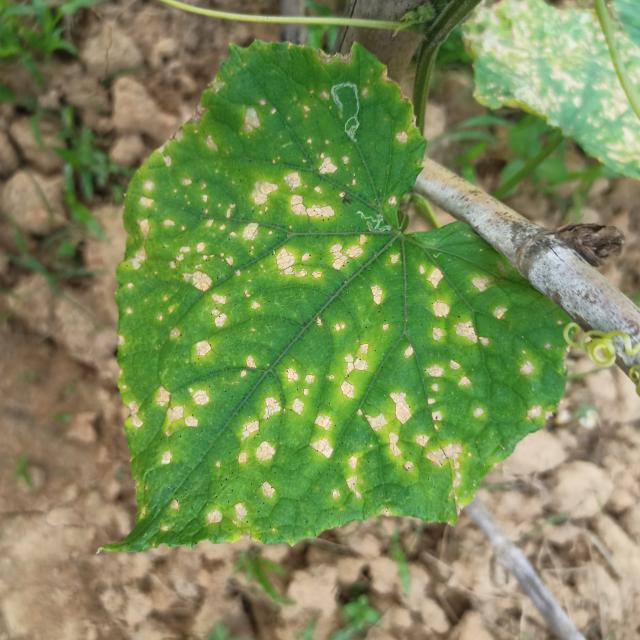disease_cucumber: (132, 80, 520, 530)
